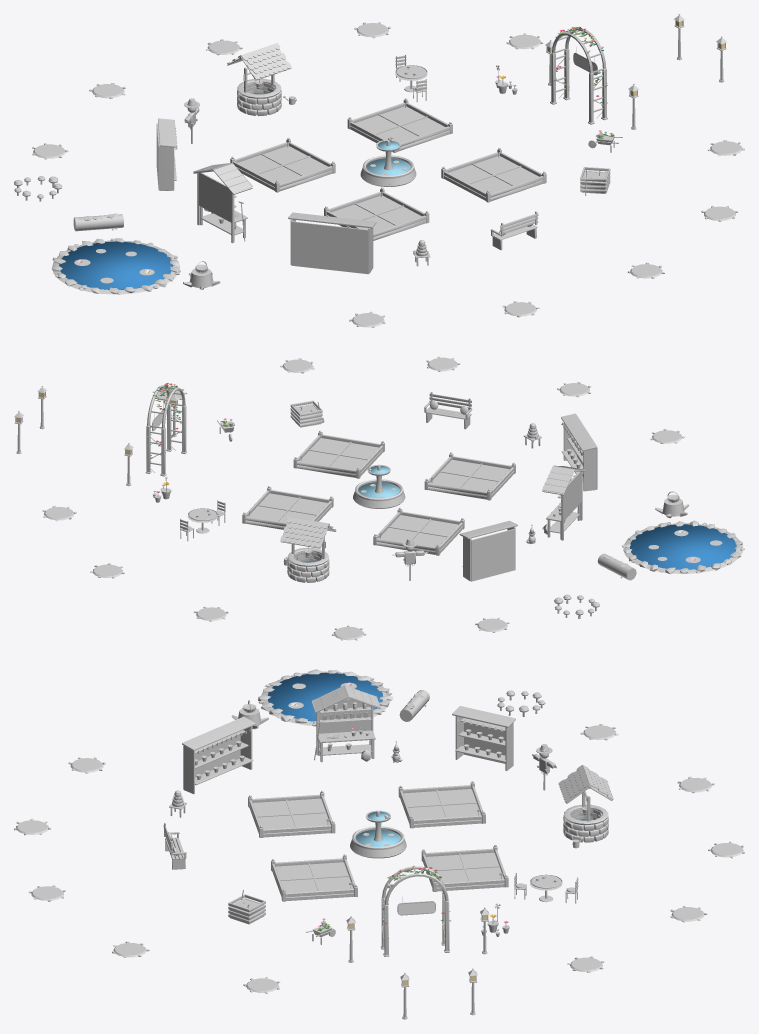
File: zon_garden_lite.glb
3 renders of one model, top to bottom at view 1: azimuth 30°, elevation 25°; view 2: azimuth 150°, elevation 25°; view 3: azimuth 270°, elevation 25°, orthographic. The views are drawn at different scales.
Visible parts, largest first — view 1: SM_zon_garden_lite_kit_garden_xm1_z0_LOD0, SM_zon_garden_lite_garden_pondwater_xm1_z0, SM_zon_garden_lite_garden_water_xm1_z0, SM_zon_garden_lite_vc_palette_xm1_z0_LOD0; view 2: SM_zon_garden_lite_kit_garden_xm1_z0_LOD0, SM_zon_garden_lite_garden_pondwater_xm1_z0, SM_zon_garden_lite_garden_water_xm1_z0; view 3: SM_zon_garden_lite_kit_garden_xm1_z0_LOD0, SM_zon_garden_lite_garden_pondwater_xm1_z0, SM_zon_garden_lite_garden_water_xm1_z0.
Part boxes in pixels (<box>): SM_zon_garden_lite_kit_garden_xm1_z0_LOD0: <box>14,14,744,327</box>; SM_zon_garden_lite_garden_pondwater_xm1_z0: <box>59,241,172,289</box>; SM_zon_garden_lite_garden_water_xm1_z0: <box>253,93,410,175</box>; SM_zon_garden_lite_vc_palette_xm1_z0_LOD0: <box>77,26,614,273</box>; SM_zon_garden_lite_kit_garden_xm1_z0_LOD0: <box>14,356,744,640</box>; SM_zon_garden_lite_garden_pondwater_xm1_z0: <box>630,524,736,569</box>; SM_zon_garden_lite_garden_water_xm1_z0: <box>302,465,400,562</box>; SM_zon_garden_lite_kit_garden_xm1_z0_LOD0: <box>14,669,744,1019</box>; SM_zon_garden_lite_garden_pondwater_xm1_z0: <box>268,672,382,721</box>; SM_zon_garden_lite_garden_water_xm1_z0: <box>355,811,591,846</box>.
Bounding box in the file's own units: 33.62 × 3.85 × 29.75.
